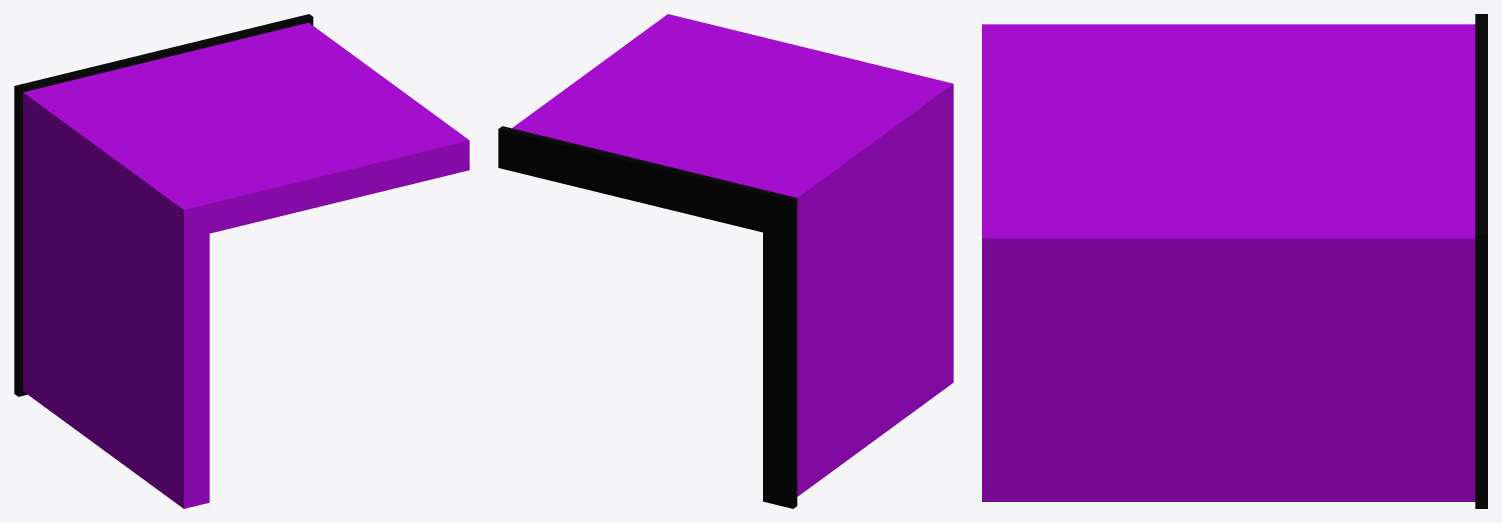
Rendered from Wall-2.fbx.
The picture shows the model from 3 angles, left to right: view 1: azimuth 30°, elevation 25°; view 2: azimuth 150°, elevation 25°; view 3: azimuth 270°, elevation 25°; orthographic projection. The views are drawn at different scales.
Visible parts, largest first — view 1: Plane; view 2: Plane; view 3: Plane.
Boxes of the visible parts, bbox=[...] form: Plane: bbox=[14, 14, 469, 508]; Plane: bbox=[498, 14, 953, 508]; Plane: bbox=[982, 14, 1487, 508].
Bounding box in the file's own units: 207 × 206 × 200.
